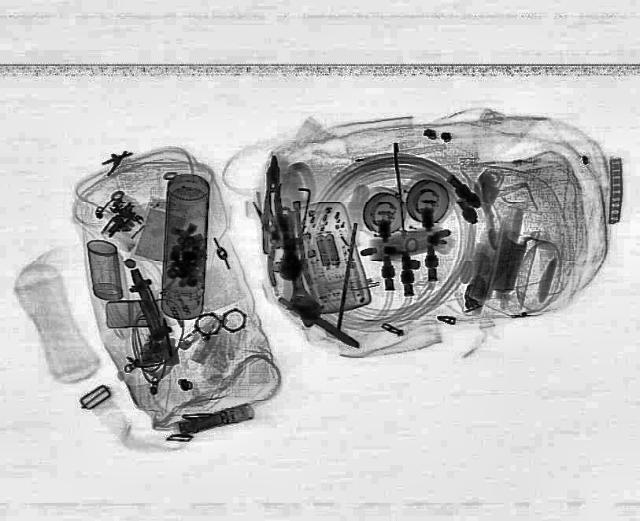Pliers: (259, 183, 303, 287)
